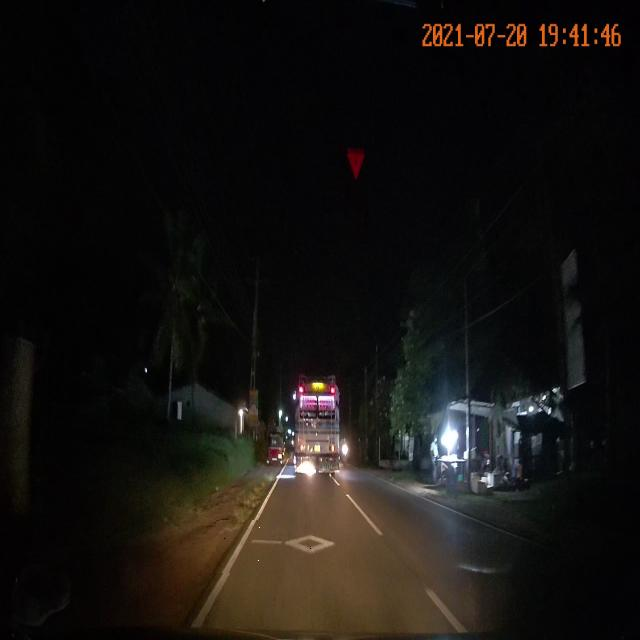diamond: (217, 520, 400, 573)
